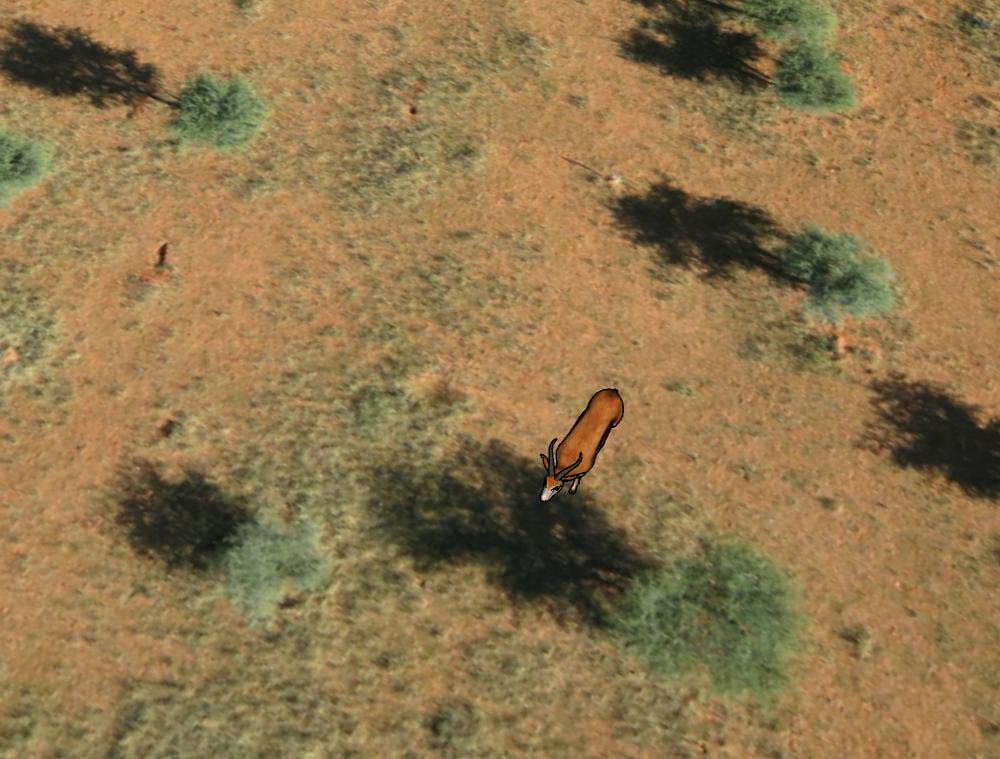springbok: (534, 378, 626, 511)
